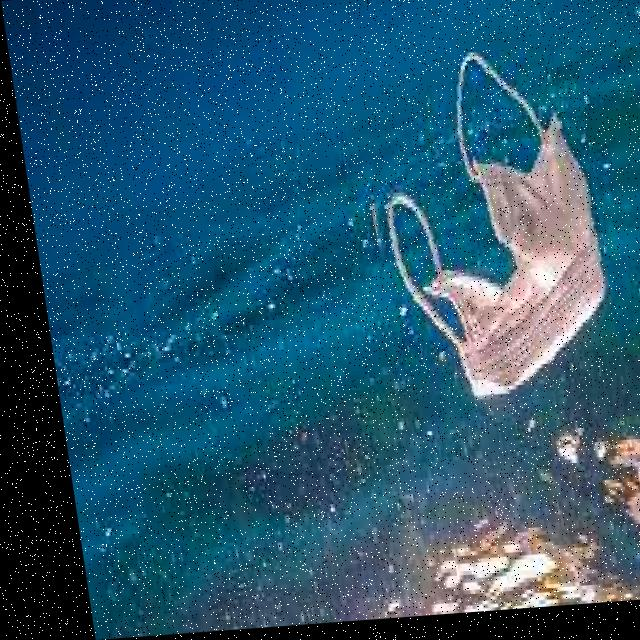mask: (334, 50, 611, 421)
